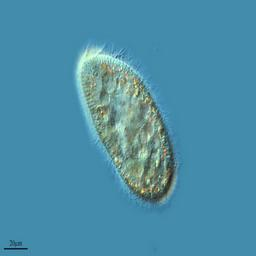Paramecium: (80, 56, 175, 203)
